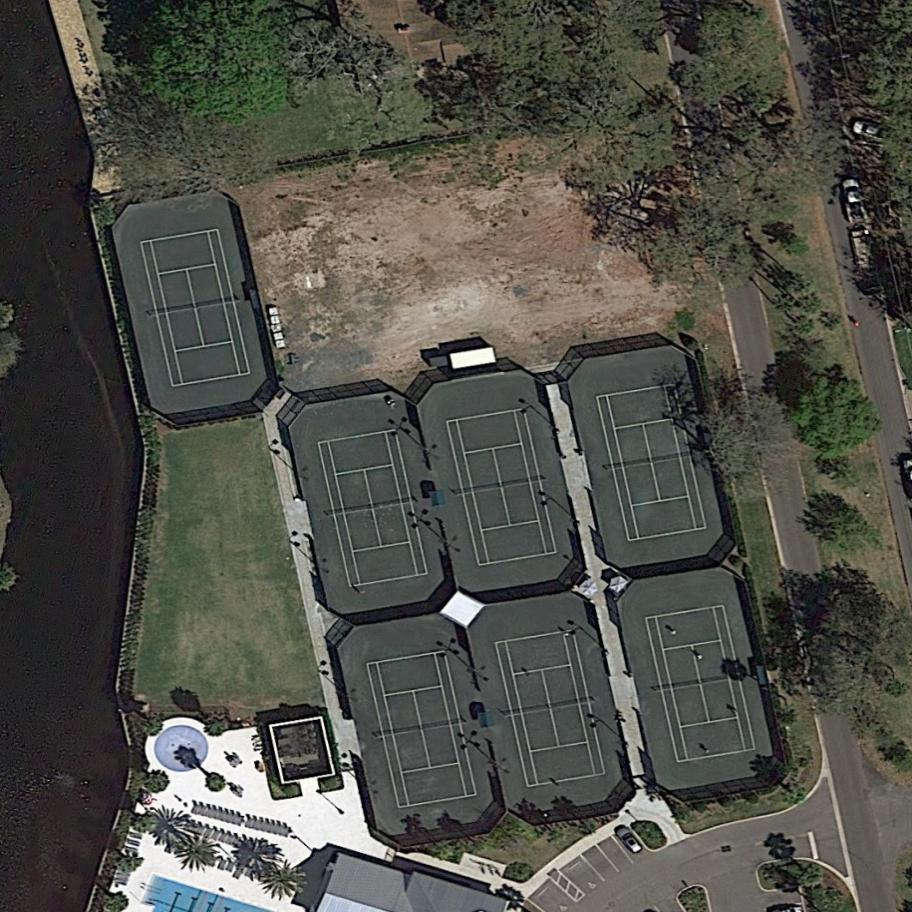small-vehicle: (839, 176, 867, 222), (853, 119, 898, 143), (615, 826, 645, 860)
